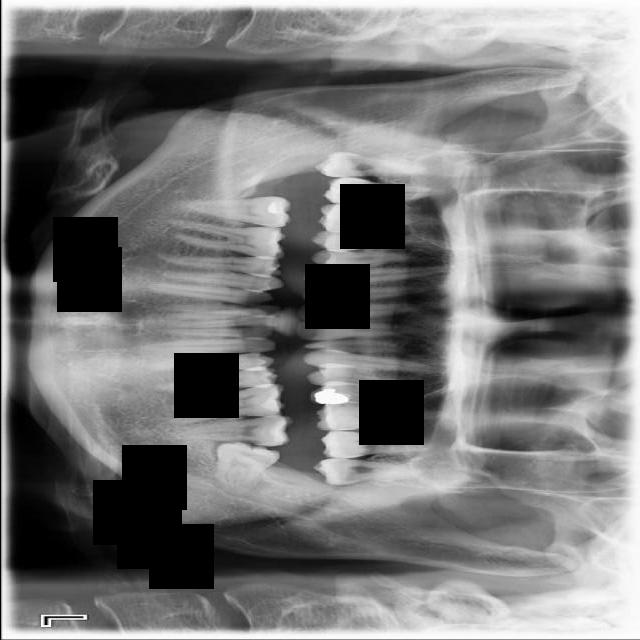3M ESPE Implant: (313, 150, 423, 180)
52: (245, 195, 291, 230), (307, 381, 364, 405)
73: (60, 606, 68, 616)
BioHorizons Implant: (320, 430, 434, 458)
BioLife Implant: (313, 458, 419, 486)
Biomet 3i Implant: (210, 439, 280, 499)
Blue Sky Bio Implant: (175, 407, 292, 448)
Caries: (322, 177, 455, 204)
Implant: (185, 193, 291, 229)
